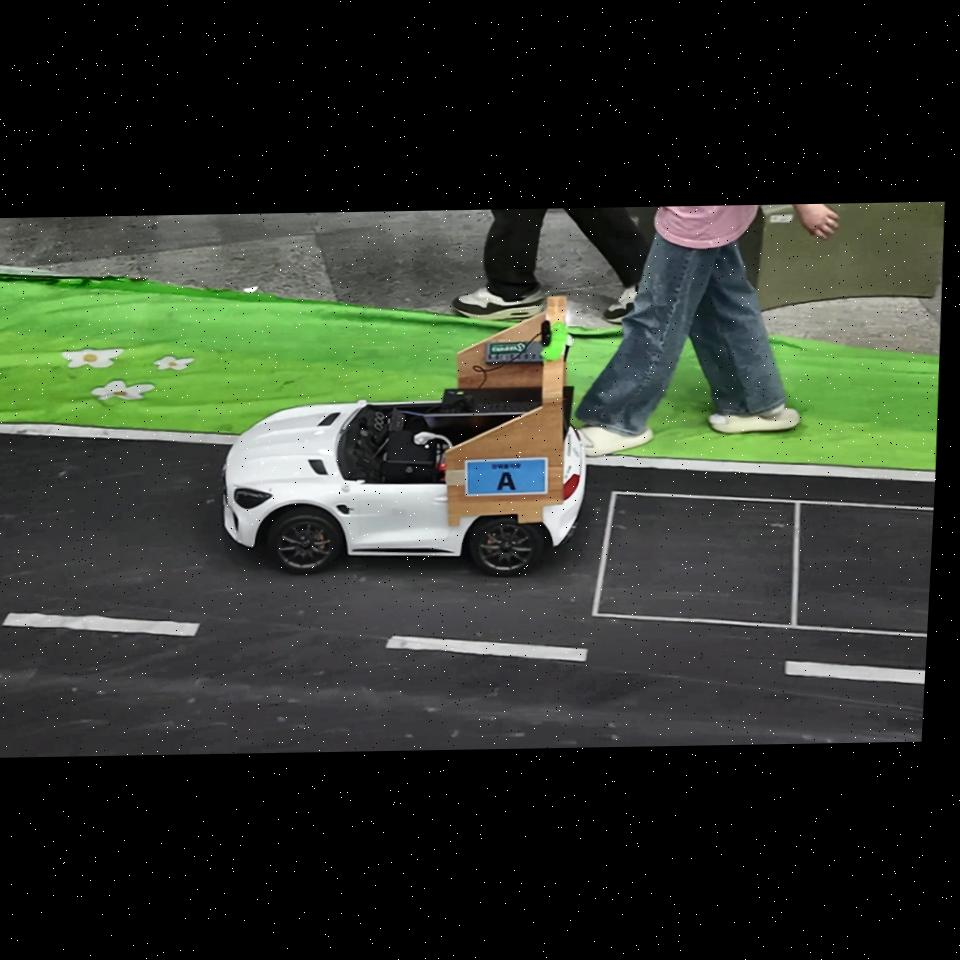broken_line: (386, 635, 587, 662), (3, 613, 200, 636), (784, 660, 925, 684)
